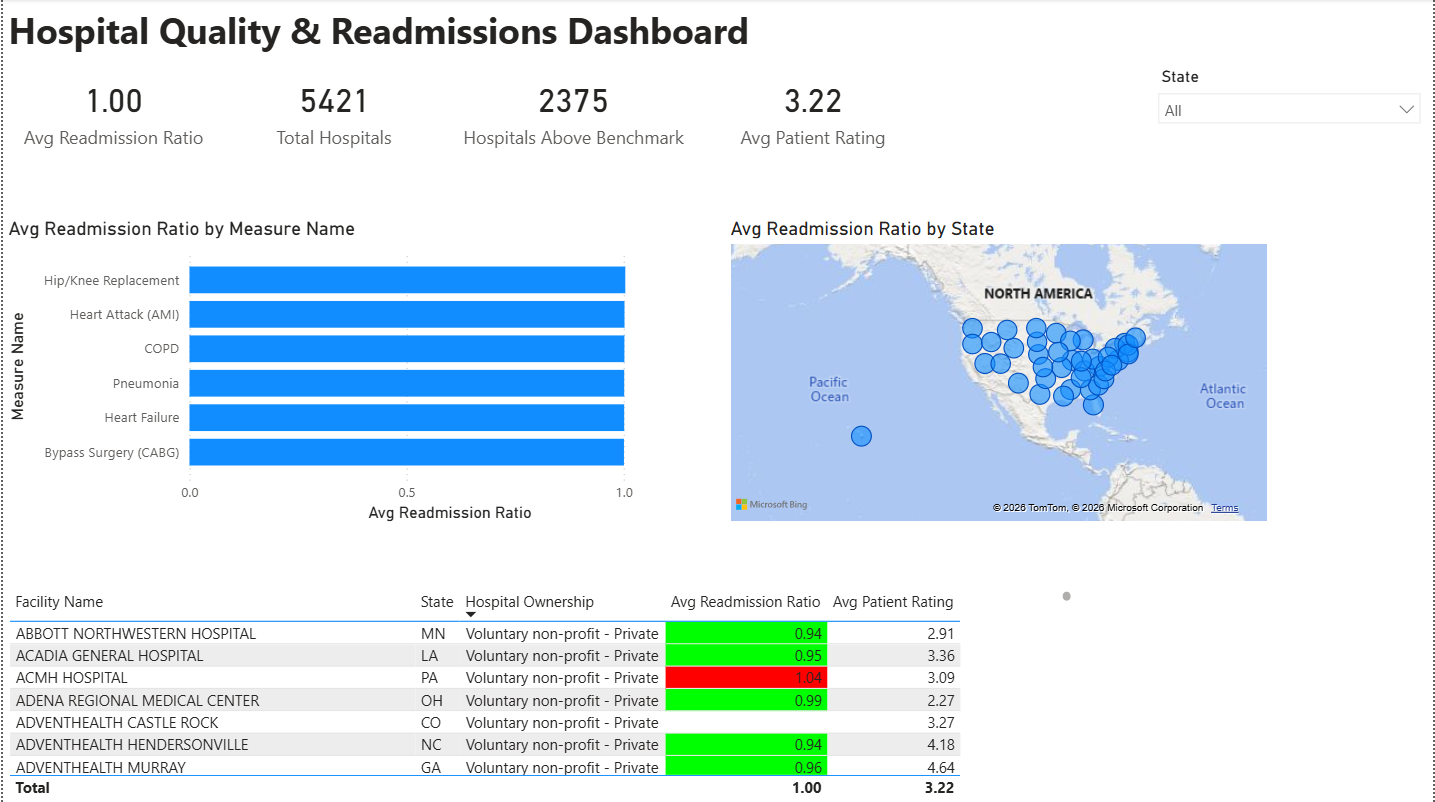

Layout of this report page (visuals, bound fields, positions):
{"tool":"powerbi","page":{"name":"Executive Summary","canvas":[1280,720],"ordinal":0},"visuals":[{"type":"card","fields":{"Values":["Readmissions.Avg Readmission Ratio"]},"box":[0,56.4,197.9,86],"z":0},{"type":"card","fields":{"Values":["Hospitals.Total Hospitals"]},"box":[197.9,56.4,197,86],"z":1000},{"type":"card","fields":{"Values":["Readmissions.Hospitals Above Benchmark"]},"box":[394.9,56.4,231.9,86],"z":2000},{"type":"card","fields":{"Values":["Patient_Satisfaction.Avg Patient Rating"]},"box":[626.9,56.4,197,86],"z":3000},{"type":"clusteredBarChart","fields":{"Category":["Readmissions.Measure Name"],"Y":["Readmissions.Avg Readmission Ratio"]},"box":[0,195.2,646.6,277.6],"z":4000},{"type":"map","fields":{"Category":["Hospitals.State"],"Size":["Readmissions.Avg Readmission Ratio"]},"box":[646.6,195.2,489.9,276.7],"z":5000},{"type":"slicer","fields":{"Values":["Hospitals.State"]},"box":[1024.5,56.4,255.2,69.9],"z":6000},{"type":"tableEx","fields":{"Values":["Hospitals.Facility Name","Hospitals.State","Hospitals.Hospital Ownership","Readmissions.Avg Readmission Ratio","Patient_Satisfaction.Avg Patient Rating"]},"box":[0,524.8,961.8,195.2],"z":7000},{"type":"textbox","box":[0,0,738.8,56.4],"z":8000}]}

Visuals, with their boxes in screenshot pixels (x1, y1, x2, y2), scaled from the page's 1280x720 canvas onto the 1435x802 screenshot:
card - Readmissions.Avg Readmission Ratio: x1=0, y1=63, x2=222, y2=159
card - Hospitals.Total Hospitals: x1=222, y1=63, x2=443, y2=159
card - Readmissions.Hospitals Above Benchmark: x1=443, y1=63, x2=703, y2=159
card - Patient_Satisfaction.Avg Patient Rating: x1=703, y1=63, x2=924, y2=159
clusteredBarChart - Readmissions.Measure Name x Readmissions.Avg Readmission Ratio: x1=0, y1=217, x2=725, y2=527
map - Hospitals.State x Readmissions.Avg Readmission Ratio: x1=725, y1=217, x2=1274, y2=526
slicer - Hospitals.State: x1=1149, y1=63, x2=1434, y2=141
tableEx - Hospitals.Facility Name x Hospitals.State: x1=0, y1=585, x2=1078, y2=801
textbox: x1=0, y1=0, x2=828, y2=63
